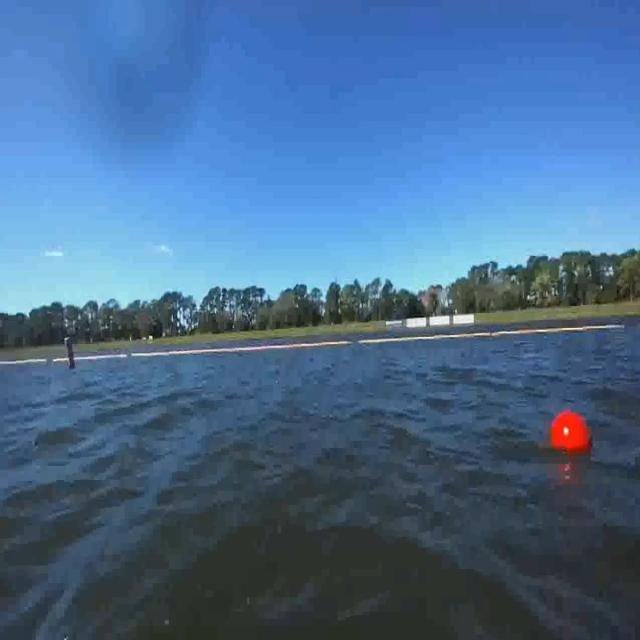red-buoy: (550, 412, 591, 459)
